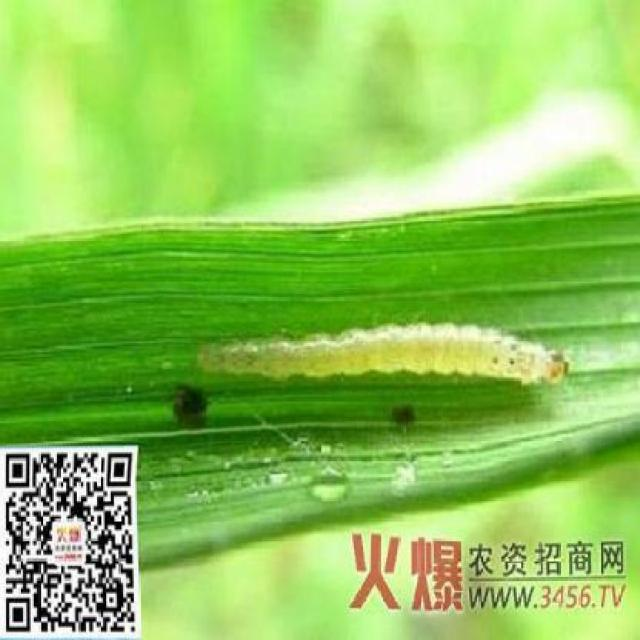leaf-folder: (182, 309, 590, 411)
